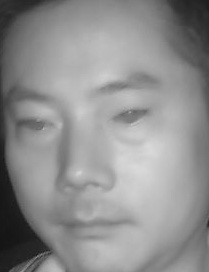eye: (14, 111, 60, 138), (107, 107, 152, 132)
mouth: (56, 203, 134, 246)
